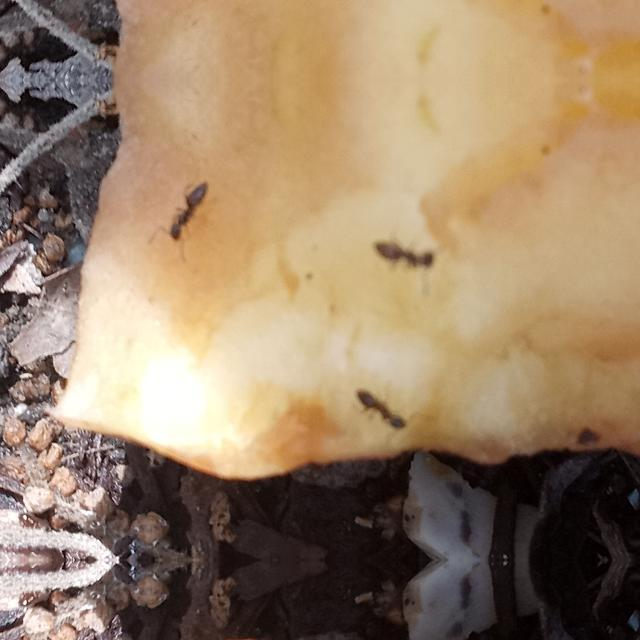Tapinoma: (155, 178, 221, 252), (348, 382, 409, 432), (372, 236, 444, 274)
